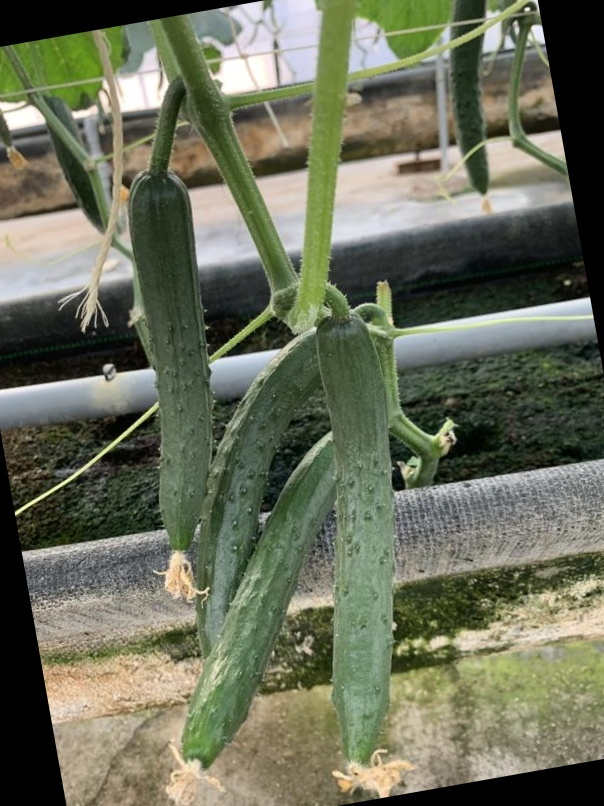mature: (174, 431, 341, 760), (197, 327, 339, 657), (124, 165, 220, 572), (321, 312, 402, 777)
